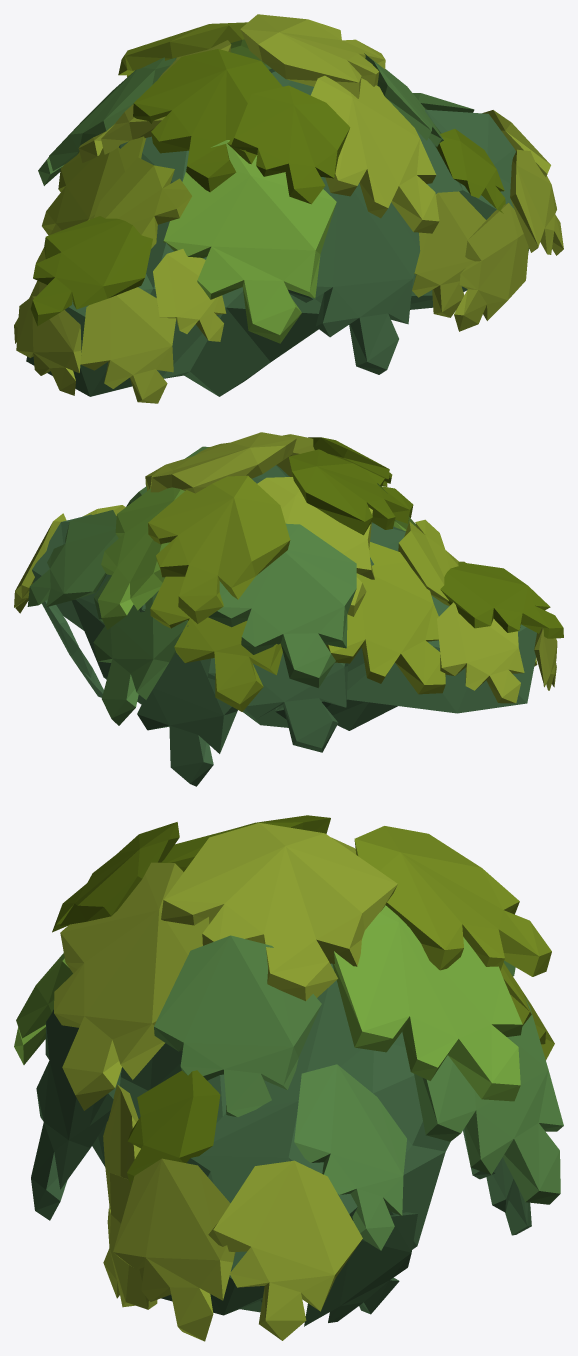
File: EA_M_Env_Bush_LeafClusterLarge_01ax.fbx
3 views of the same model, one above another, from view 1: azimuth 30°, elevation 25°; view 2: azimuth 150°, elevation 25°; view 3: azimuth 270°, elevation 25° (orthographic). The views are drawn at different scales.
Parts seen in each view (by area): view 1: EA_M_Env_Bush_LeafClusterLarge_01ax_LOD0; view 2: EA_M_Env_Bush_LeafClusterLarge_01ax_LOD0; view 3: EA_M_Env_Bush_LeafClusterLarge_01ax_LOD0.
Part boxes in pixels (left/top/right/bottom): EA_M_Env_Bush_LeafClusterLarge_01ax_LOD0: left=14, top=14, right=563, bottom=403; EA_M_Env_Bush_LeafClusterLarge_01ax_LOD0: left=14, top=432, right=563, bottom=786; EA_M_Env_Bush_LeafClusterLarge_01ax_LOD0: left=14, top=815, right=563, bottom=1341.
Size of what is drawn, in the model's own units: 4.31 by 2.34 by 2.79.
